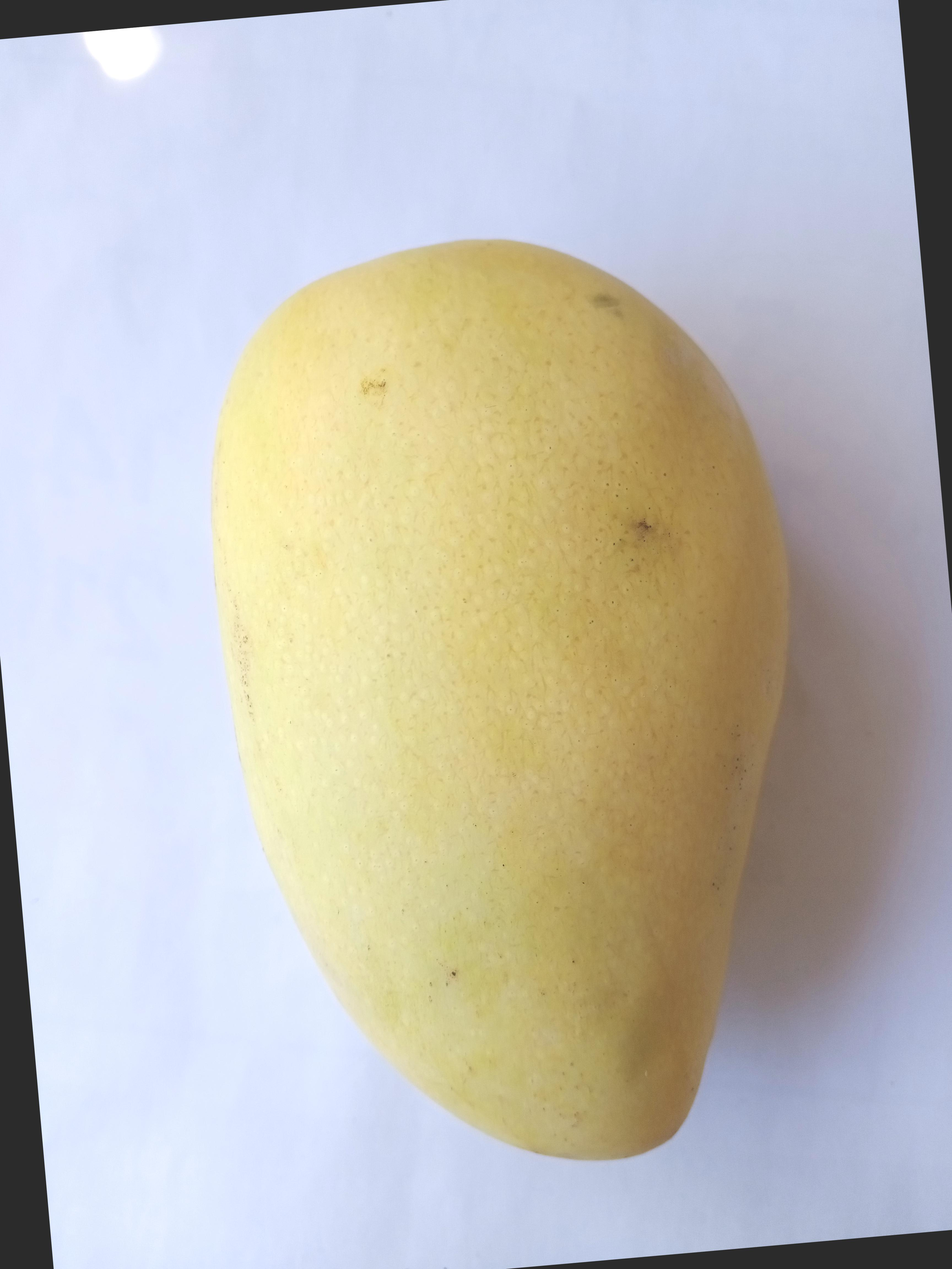Mango Ripe: (77, 212, 823, 1269)
